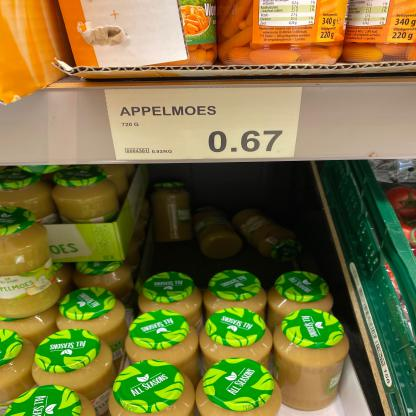prtg: (105, 88, 304, 161)
